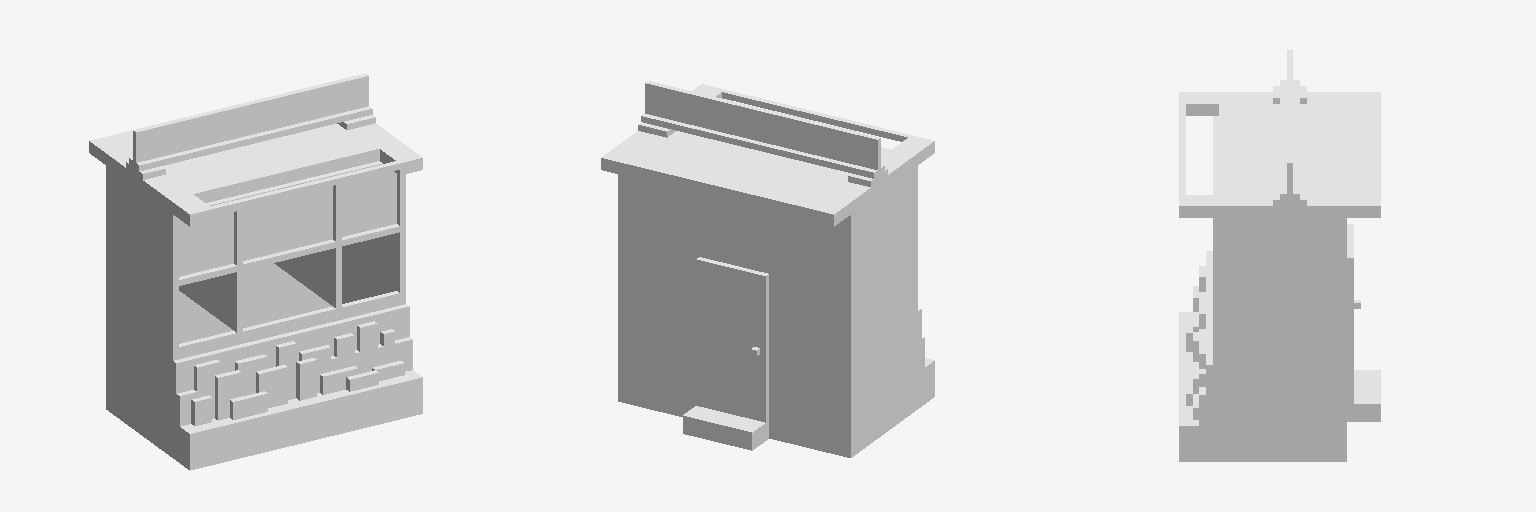
Rendered from newspaper-kiosk.obj.
3 views of the same model, side by side, from view 1: azimuth 30°, elevation 25°; view 2: azimuth 150°, elevation 25°; view 3: azimuth 270°, elevation 25° (orthographic).
Parts seen in each view (by area): view 1: object 1; view 2: object 1; view 3: object 1.
Boxes of the visible parts, <box> form: object 1: <box>89,73,422,470</box>; object 1: <box>601,81,934,457</box>; object 1: <box>1179,50,1380,461</box>.
Bounding box in the file's own units: 4 × 4.9 × 3.